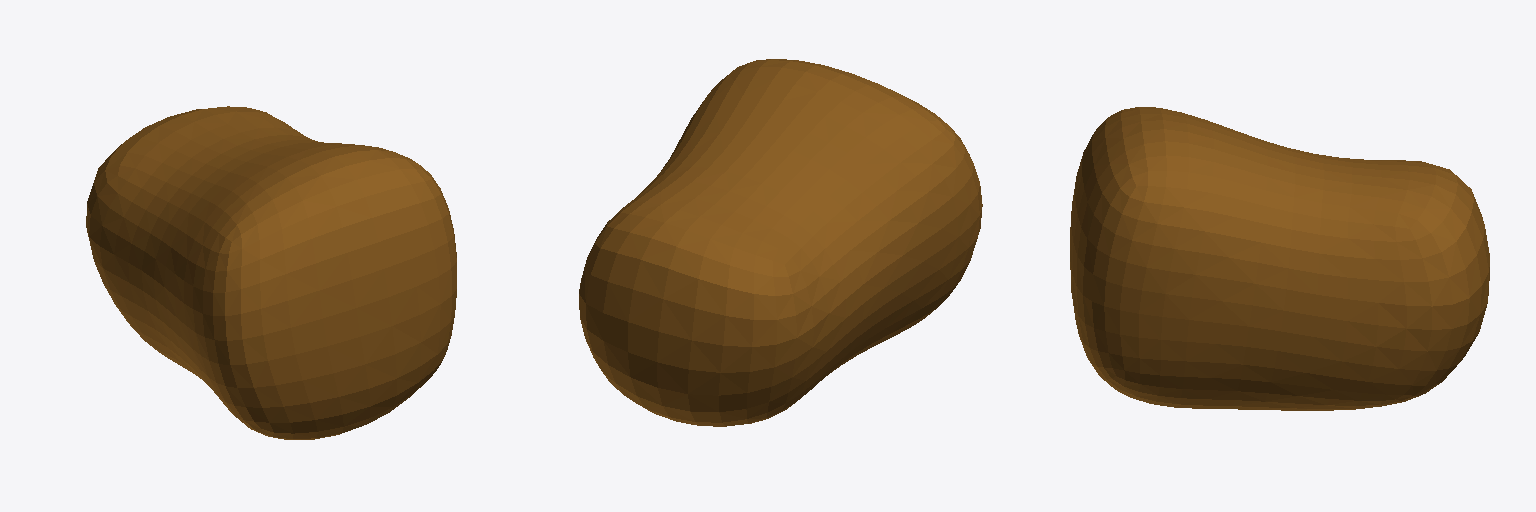
Rendered from fing5_1.obj.
3 views of the same model, side by side, from view 1: azimuth 30°, elevation 25°; view 2: azimuth 150°, elevation 25°; view 3: azimuth 270°, elevation 25° (orthographic).
Parts seen in each view (by area): view 1: f5o1; view 2: f5o1; view 3: f5o1.
Part boxes in pixels (bbox=[...]): f5o1: bbox=[86, 106, 456, 439]; f5o1: bbox=[579, 59, 982, 426]; f5o1: bbox=[1070, 107, 1489, 410].
Size of the model in its own units: 0.8149 by 0.8337 by 1.16.